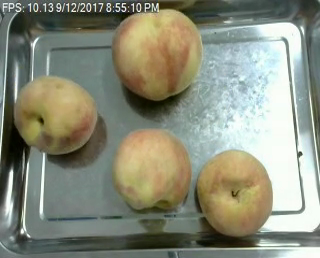Peach: (112, 8, 203, 101), (13, 74, 98, 155), (196, 149, 273, 238), (112, 127, 190, 210)
